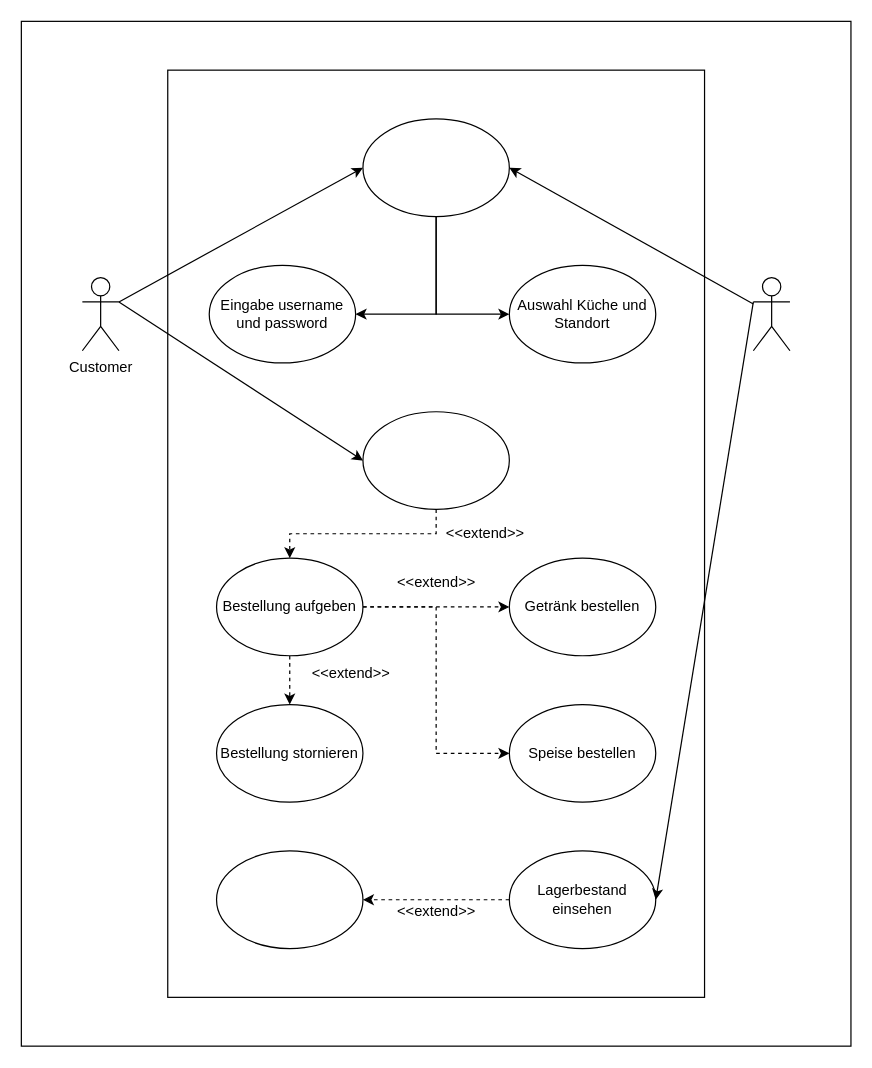
The diagram is 872 pixels wide and 1068 high, and some of its shapes have lost their labels. Here are the shapes that lost their labels. From the top down, the centre of each, then its label:
(x=435, y=167): Login
(x=771, y=313): Manager
(x=435, y=460): Speisekarte einsehen
(x=289, y=899): Lagerbestand auffüllen
